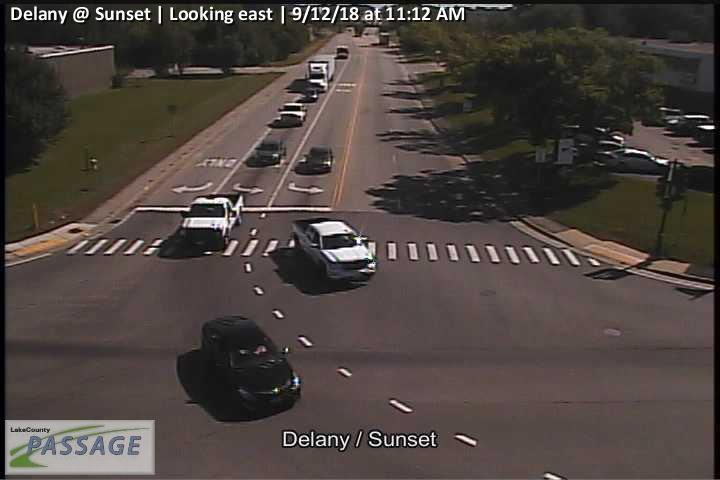Sedan: (200, 315, 300, 415), (253, 134, 287, 165), (300, 144, 333, 174), (304, 88, 319, 102)
Truck: (290, 216, 376, 282), (173, 192, 244, 250), (303, 53, 335, 90), (278, 101, 308, 124)
